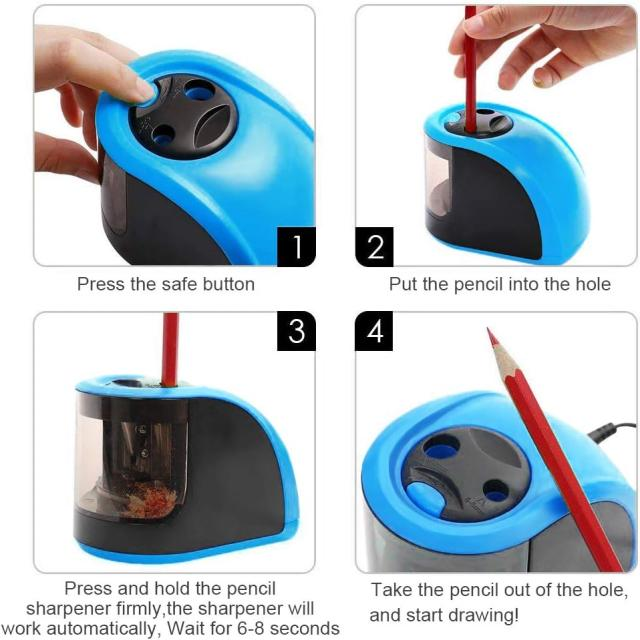pencil_sharpener: (359, 0, 640, 268)
